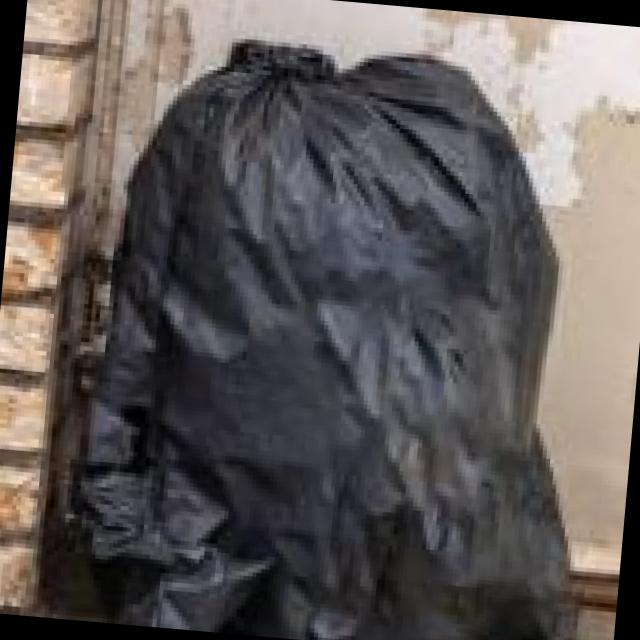general: (60, 18, 626, 640)
